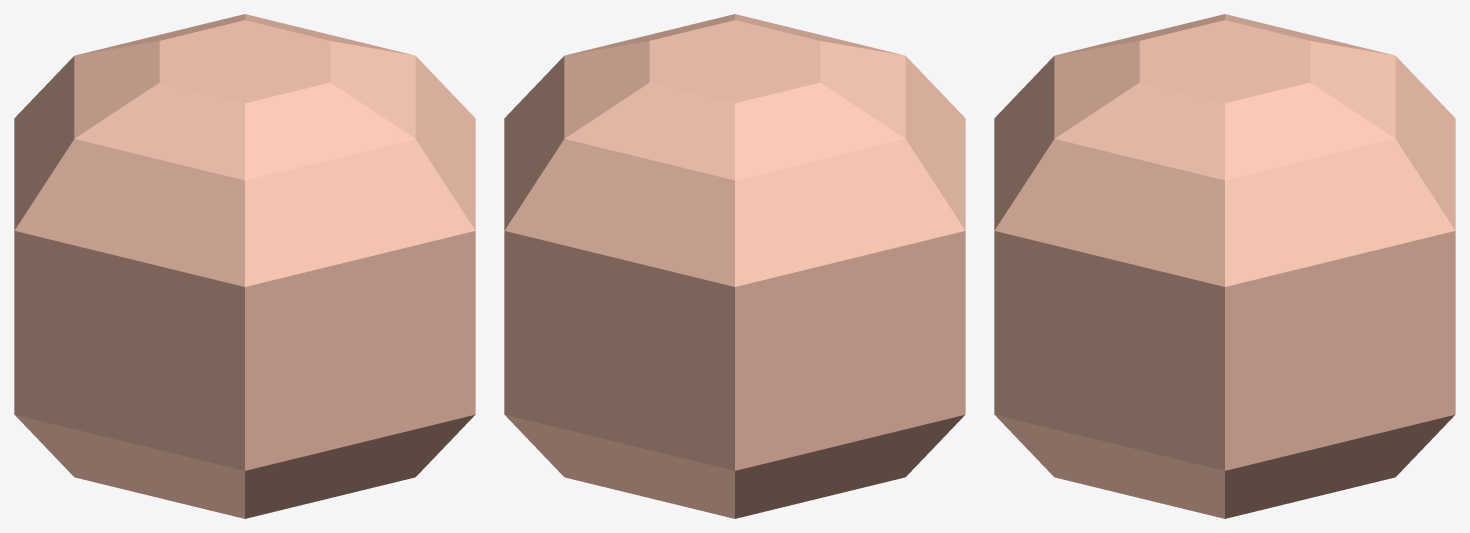
The model's file is meteor.gltf.
The picture shows the model from 3 angles, left to right: view 1: azimuth 30°, elevation 25°; view 2: azimuth 150°, elevation 25°; view 3: azimuth 270°, elevation 25°; orthographic projection.
Visible parts, largest first — view 1: meteor; view 2: meteor; view 3: meteor.
Part boxes in pixels (x1,y1,x2,y2): meteor: (14,14,475,518); meteor: (504,14,965,518); meteor: (994,14,1455,518).
Bounding box in the file's own units: 0.866 × 0.735 × 0.75.
